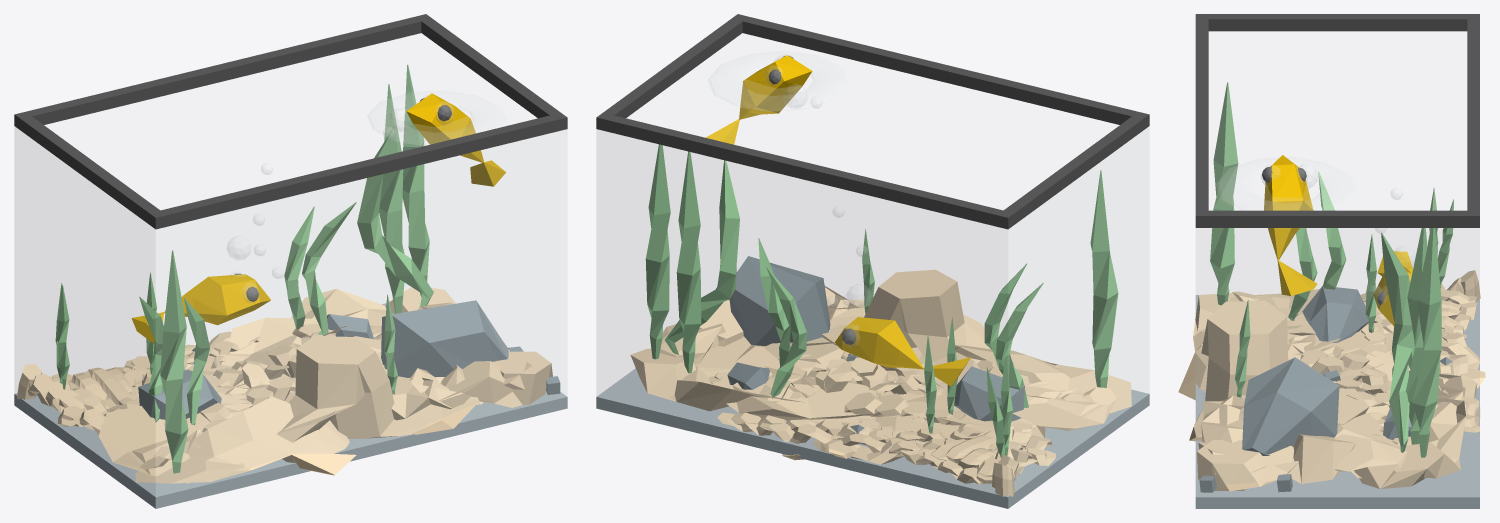
File: fishtank.gltf
3 renders of one model, left to right at view 1: azimuth 30°, elevation 25°; view 2: azimuth 150°, elevation 25°; view 3: azimuth 270°, elevation 25°, orthographic.
Parts seen in each view (by area): view 1: model; view 2: model; view 3: model.
Boxes of the visible parts, x1=… form: model: x1=14, y1=14, x2=567, y2=508; model: x1=596, y1=14, x2=1149, y2=508; model: x1=1178, y1=14, x2=1485, y2=508.
Size of the model in its own units: 0.7466 by 0.5311 by 0.4756.
